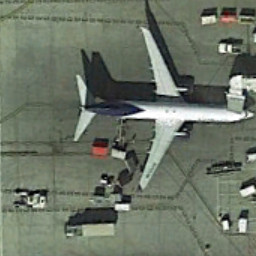Airplane: (54, 18, 253, 198)
